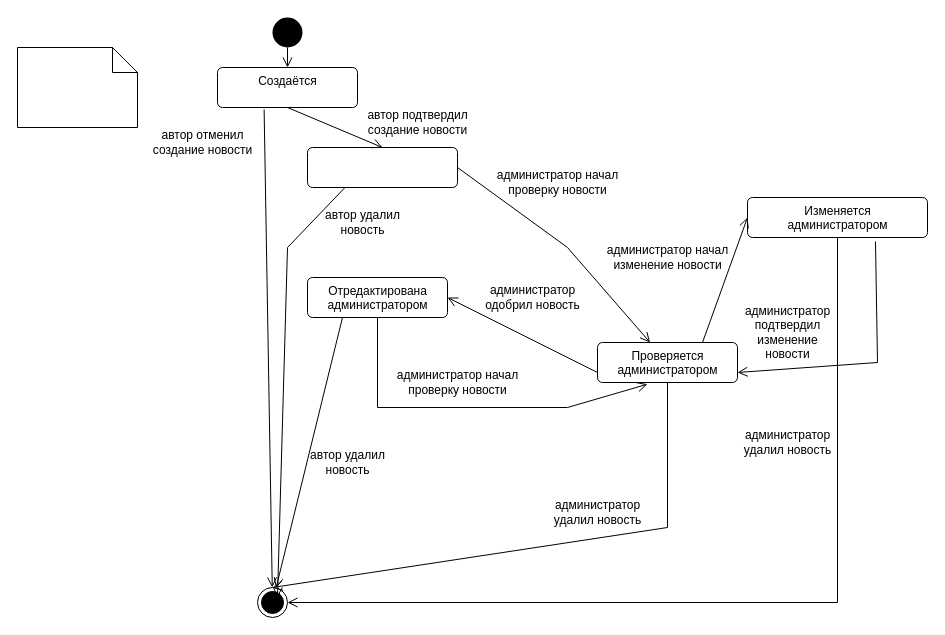
This 945x635 diagram has some shape labels left out. Here are the shapes that lost their labels. From the top down, the box of each, then its label:
(16, 46, 138, 128): Диаграмма состояний новости
(306, 146, 458, 188): Опубликована в первоначальной версии
